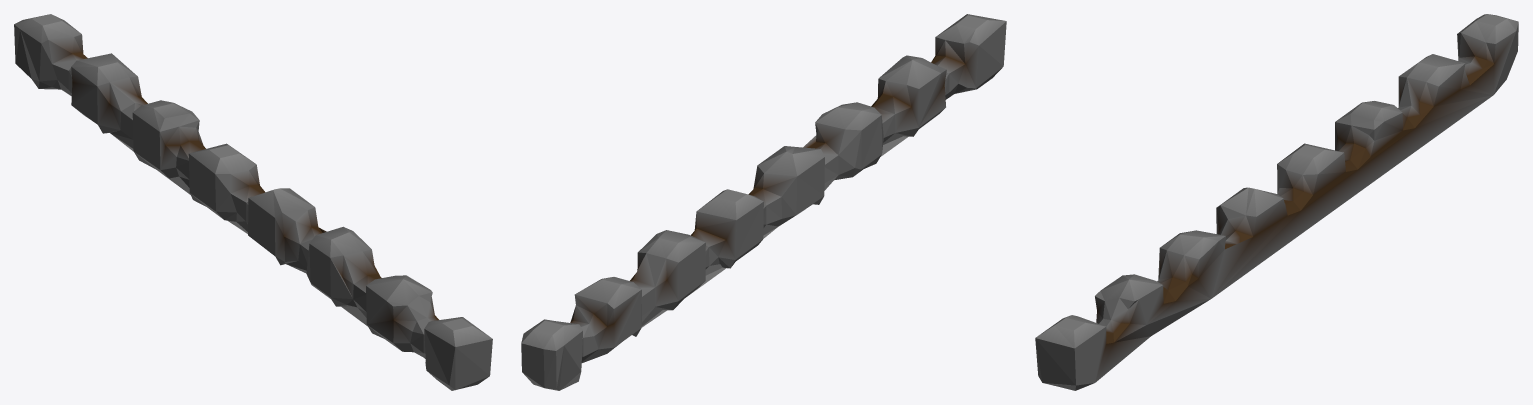
File: Medieval Walls(2).glb
The picture shows the model from 3 angles, left to right: view 1: azimuth 30°, elevation 25°; view 2: azimuth 150°, elevation 25°; view 3: azimuth 330°, elevation 25°; orthographic projection.
Parts seen in each view (by area): view 1: id0; view 2: id0; view 3: id0.
Boxes of the visible parts, x1,y1,x2,y2 form: id0: (14,14,492,390); id0: (521,14,1006,390); id0: (1035,14,1518,390).
Size of the model in its own units: 9.73 by 12.48 by 164.
